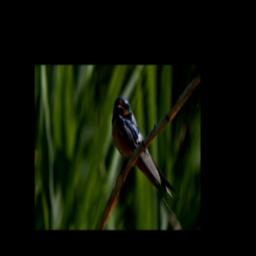Swallow: (111, 96, 177, 220)
